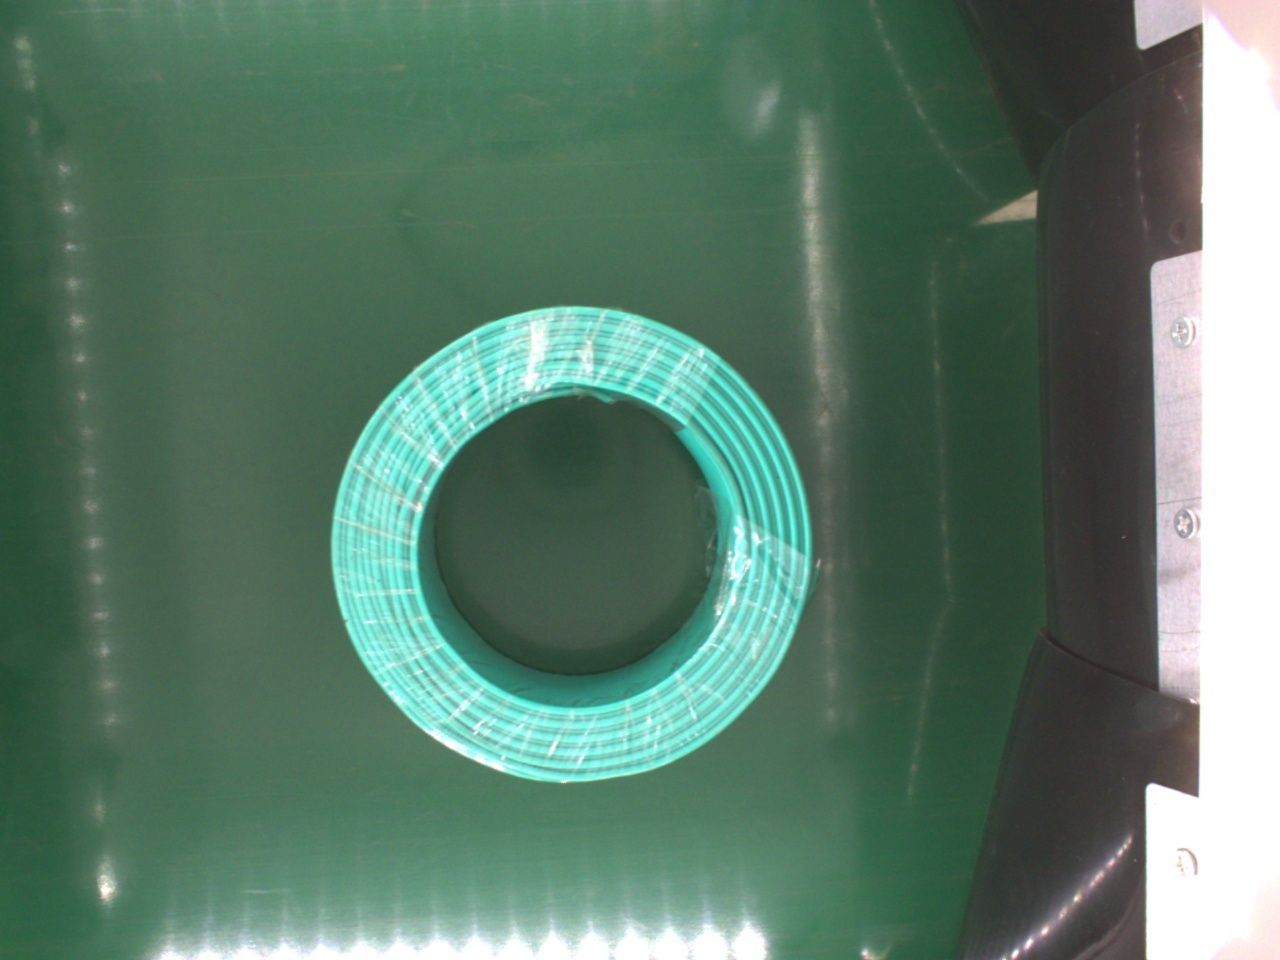green: (328, 305, 813, 788)
